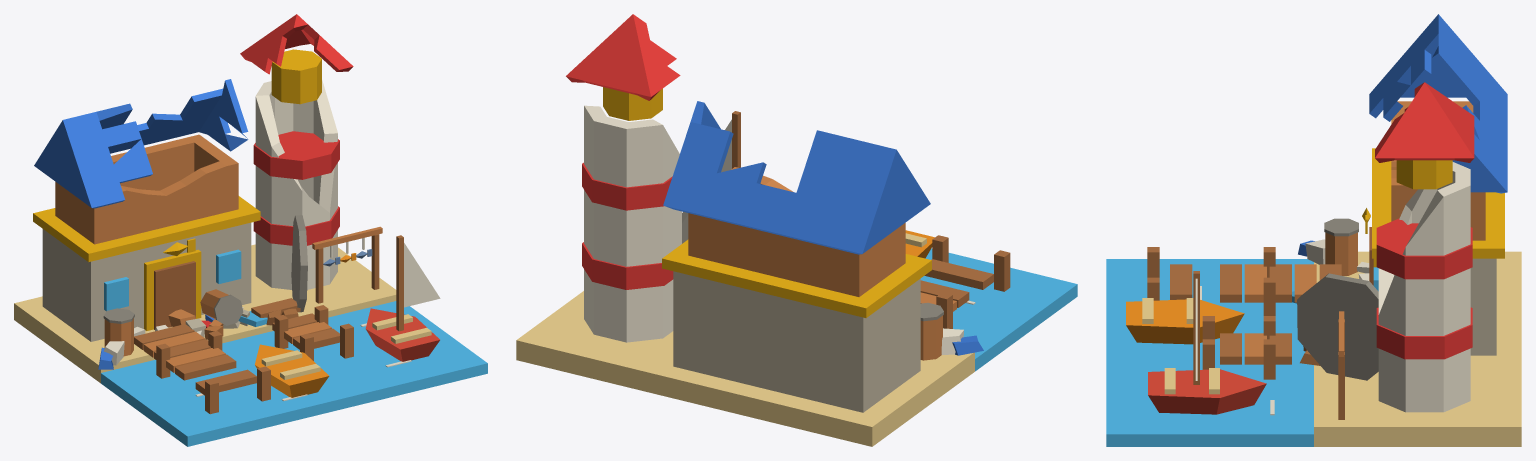
File: fishery_t3_v1_dmg1.glb
3 views of the same model, side by side, from view 1: azimuth 30°, elevation 25°; view 2: azimuth 150°, elevation 25°; view 3: azimuth 270°, elevation 25° (orthographic). The views are drawn at different scales.
Parts seen in each view (by area): view 1: fishery_t3_v1_dmg1; view 2: fishery_t3_v1_dmg1; view 3: fishery_t3_v1_dmg1.
Boxes of the visible parts, x1,y1,x2,y2 form: fishery_t3_v1_dmg1: [14, 14, 487, 446]; fishery_t3_v1_dmg1: [516, 14, 1077, 446]; fishery_t3_v1_dmg1: [1106, 14, 1521, 446].
Bounding box in the file's own units: 0.7627 × 0.66 × 0.75.
Materials: 1 (1 with a texture image).
